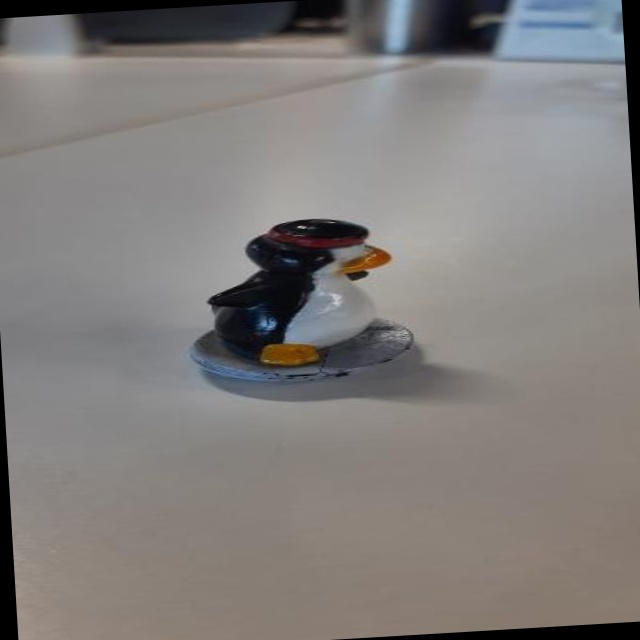Penguin: (180, 193, 526, 419)
